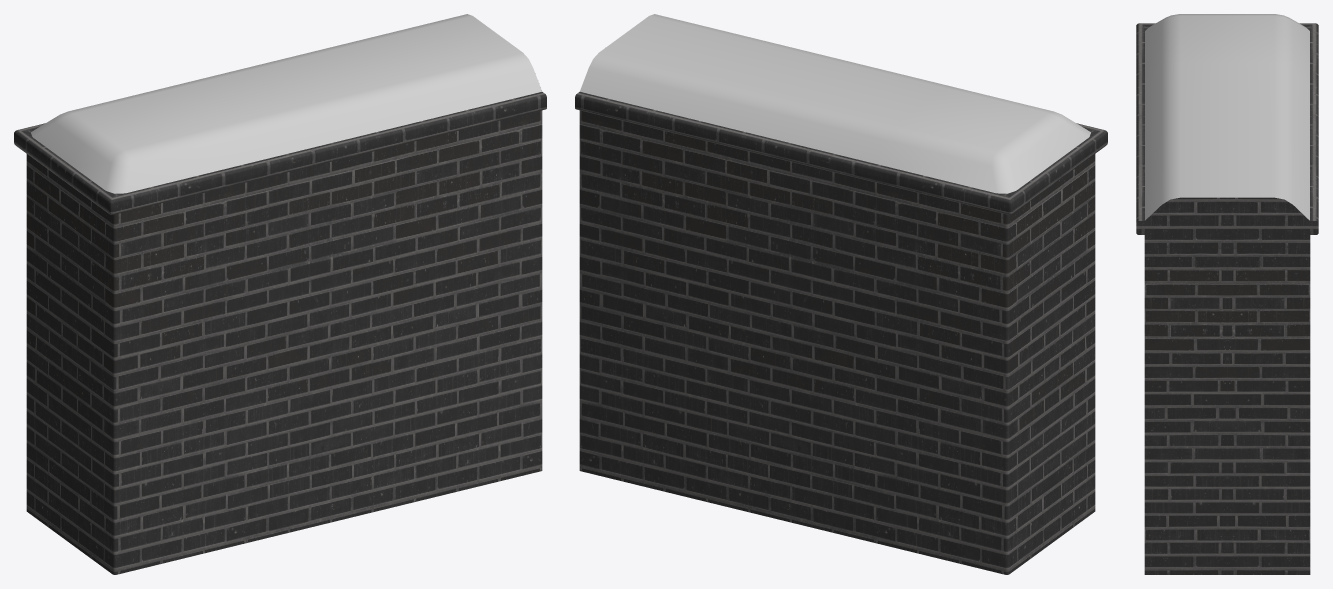
The model's file is SM_GH_Parapet_004.fbx.
The picture shows the model from 3 angles, left to right: view 1: azimuth 30°, elevation 25°; view 2: azimuth 150°, elevation 25°; view 3: azimuth 270°, elevation 25°; orthographic projection. The views are drawn at different scales.
Visible parts, largest first — view 1: SM_GH_Parapet_004; view 2: SM_GH_Parapet_004; view 3: SM_GH_Parapet_004.
Part boxes in pixels (left/top/right/bottom): SM_GH_Parapet_004: left=14, top=14, right=546, bottom=574; SM_GH_Parapet_004: left=575, top=14, right=1107, bottom=574; SM_GH_Parapet_004: left=1136, top=14, right=1318, bottom=574.
Size of the model in its own units: 251 by 97.5 by 222.
